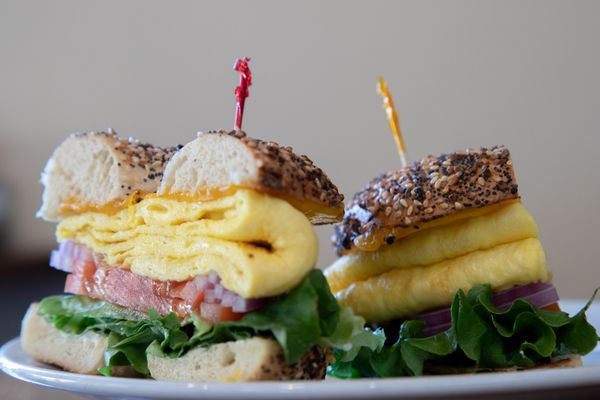soup: (21, 125, 356, 382), (325, 146, 555, 323)
